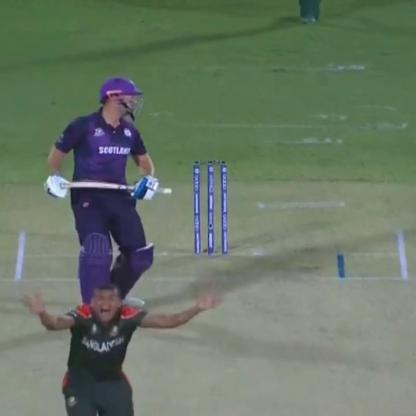bat: (47, 176, 172, 203)
pitch: (2, 228, 415, 415)
